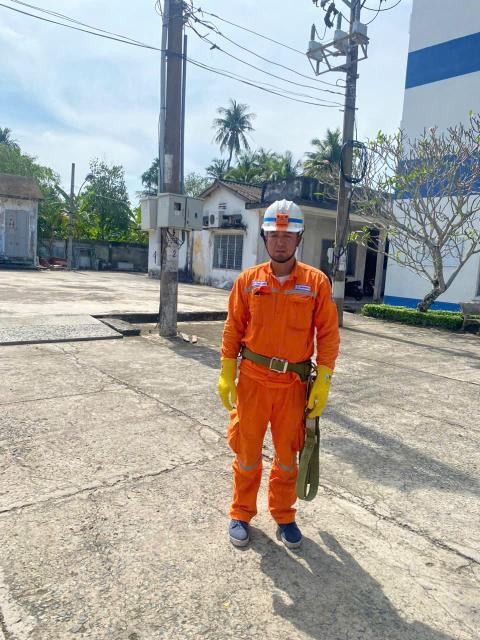gloves: (216, 352, 249, 415), (310, 361, 335, 422)
harness: (233, 339, 318, 386)
helmet: (257, 196, 308, 241)
shoes: (228, 489, 256, 547), (278, 500, 306, 552)
